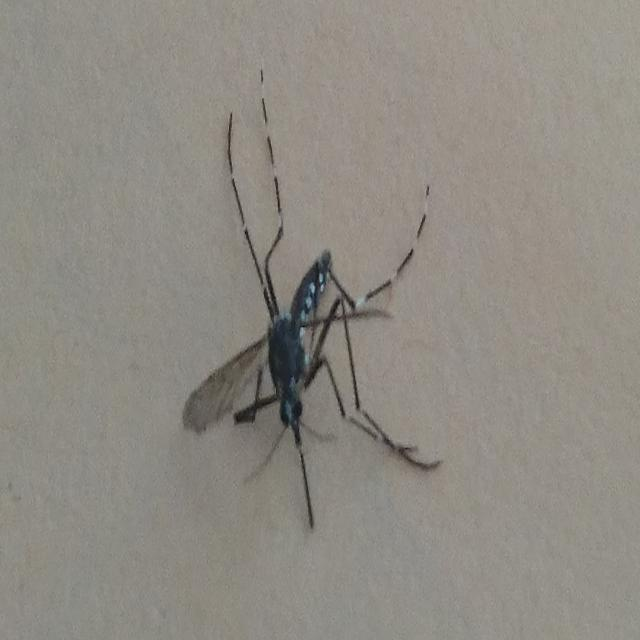albopictus: (187, 47, 448, 541)
